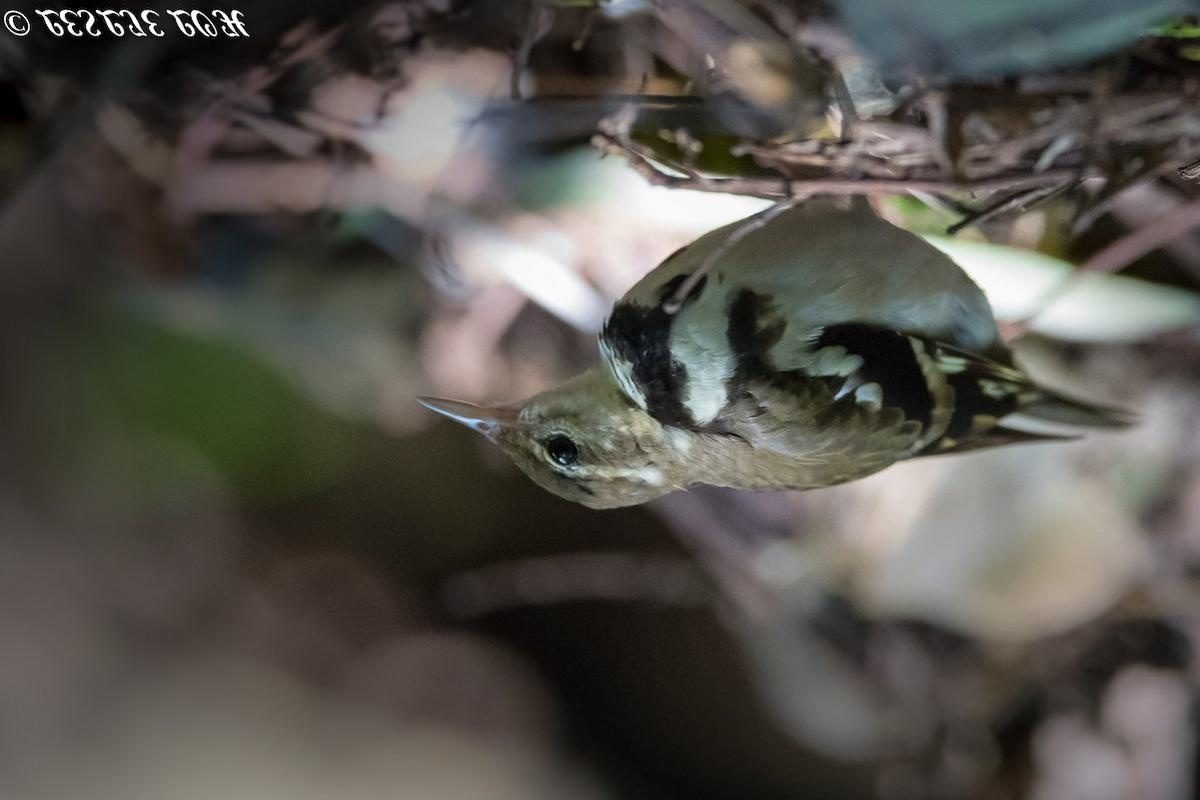wagtail: (437, 202, 1096, 528)
